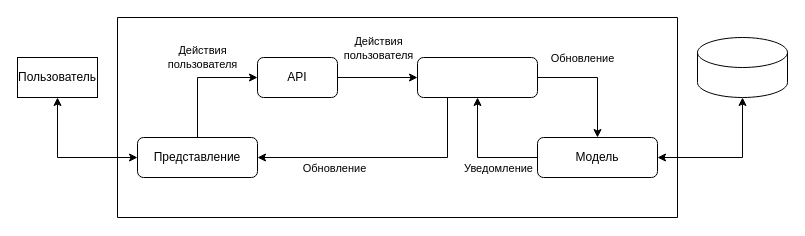
Some shapes in this 805 by 236 pixel diagram are drawn without their labels. Here are the shapes that lost their labels. From the top down, the centre of each, then its label:
the point at 477,77: Контроллер
the point at 742,67: База данных
